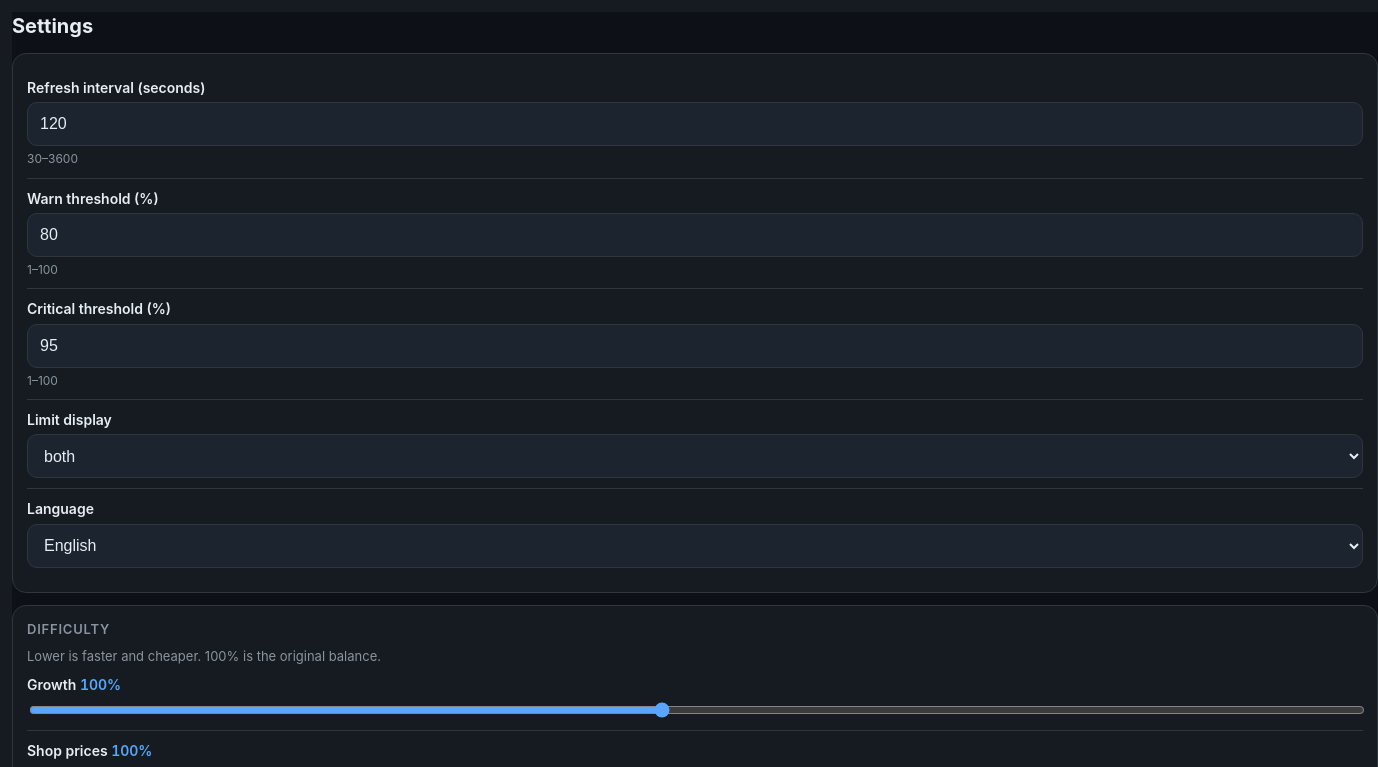
Test: Settings only submits real changes › never submits an empty field
This screenshot has width=1378, height=767.
Clear the number field labelled "Refresh interval (seconds) 30–3600" at [695, 124], box [27, 102, 1363, 146]
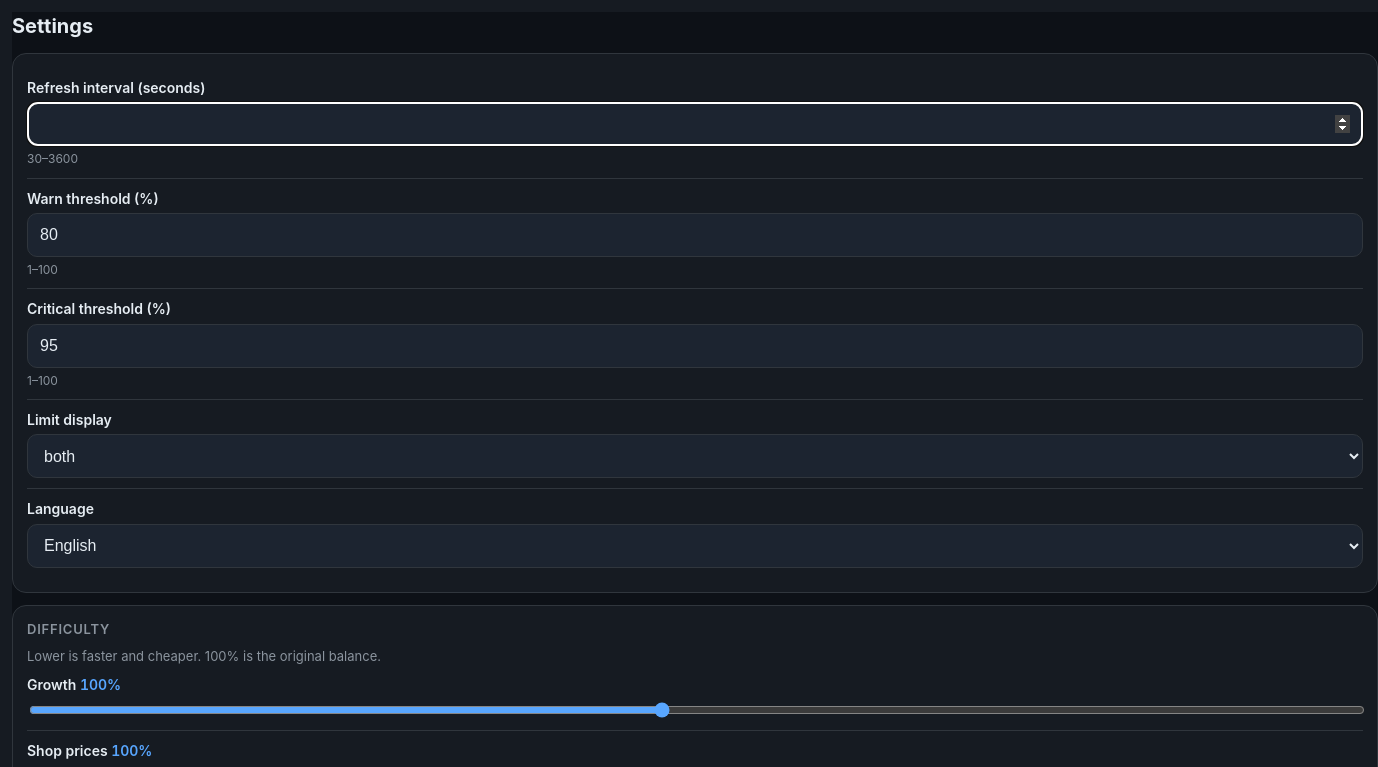
Press Tab
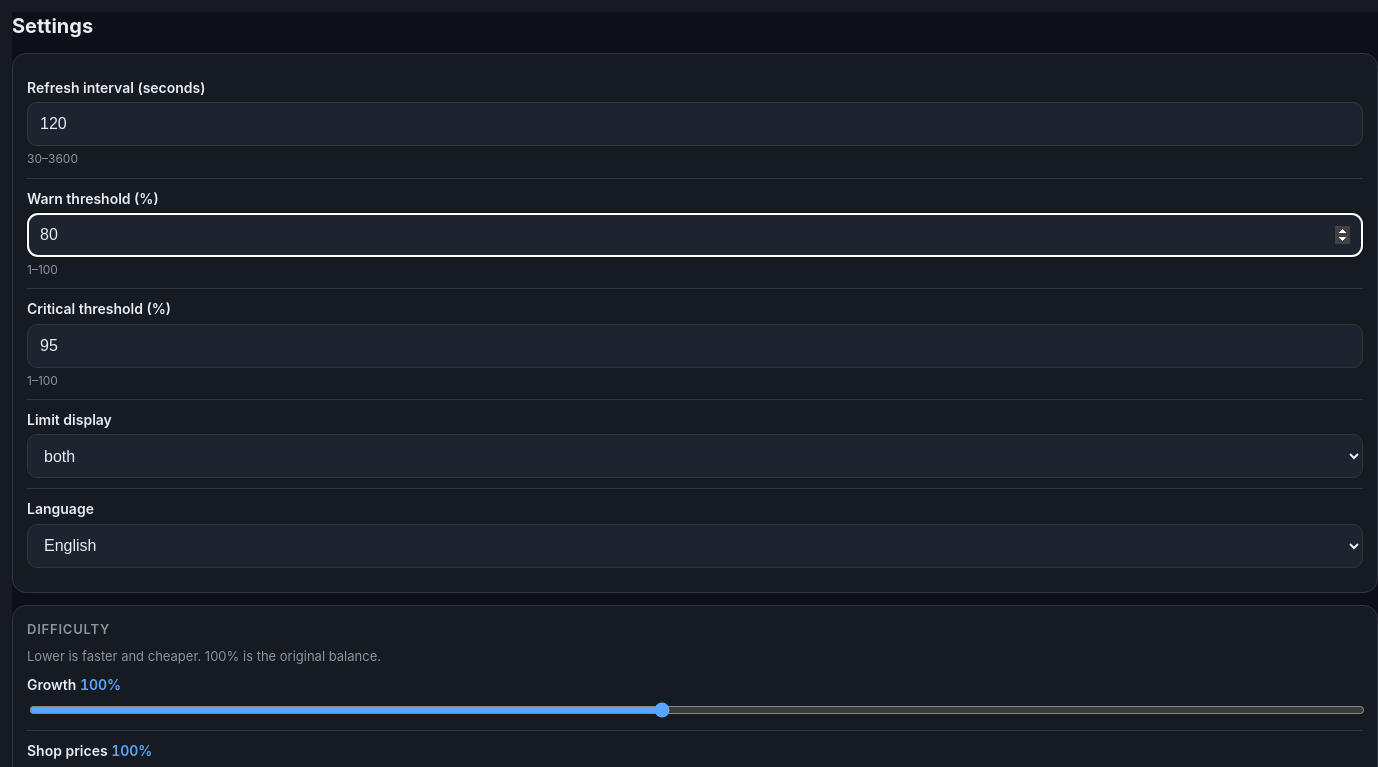
Now the number field labelled "Refresh interval (seconds) 30–3600" holds "120", box [27, 102, 1363, 146]
